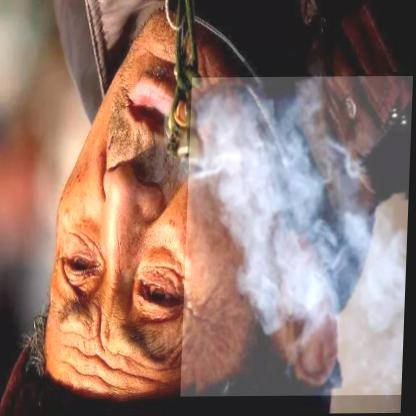smoke: (183, 77, 414, 397)
